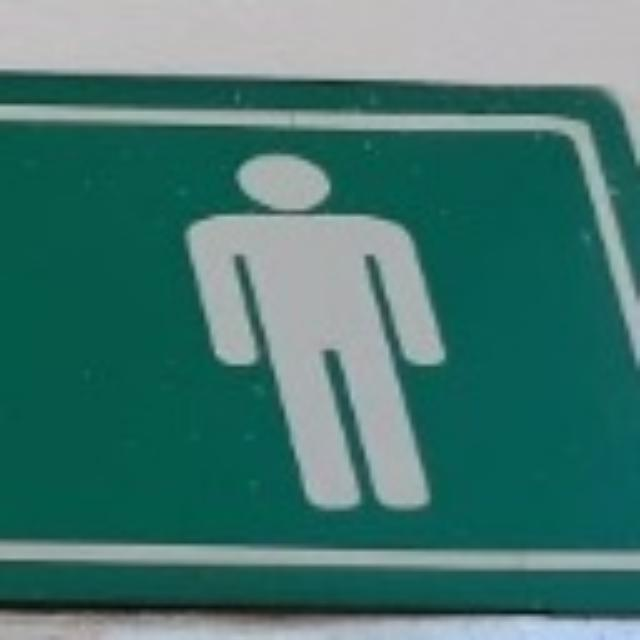mens_restroom: (0, 75, 635, 605)
